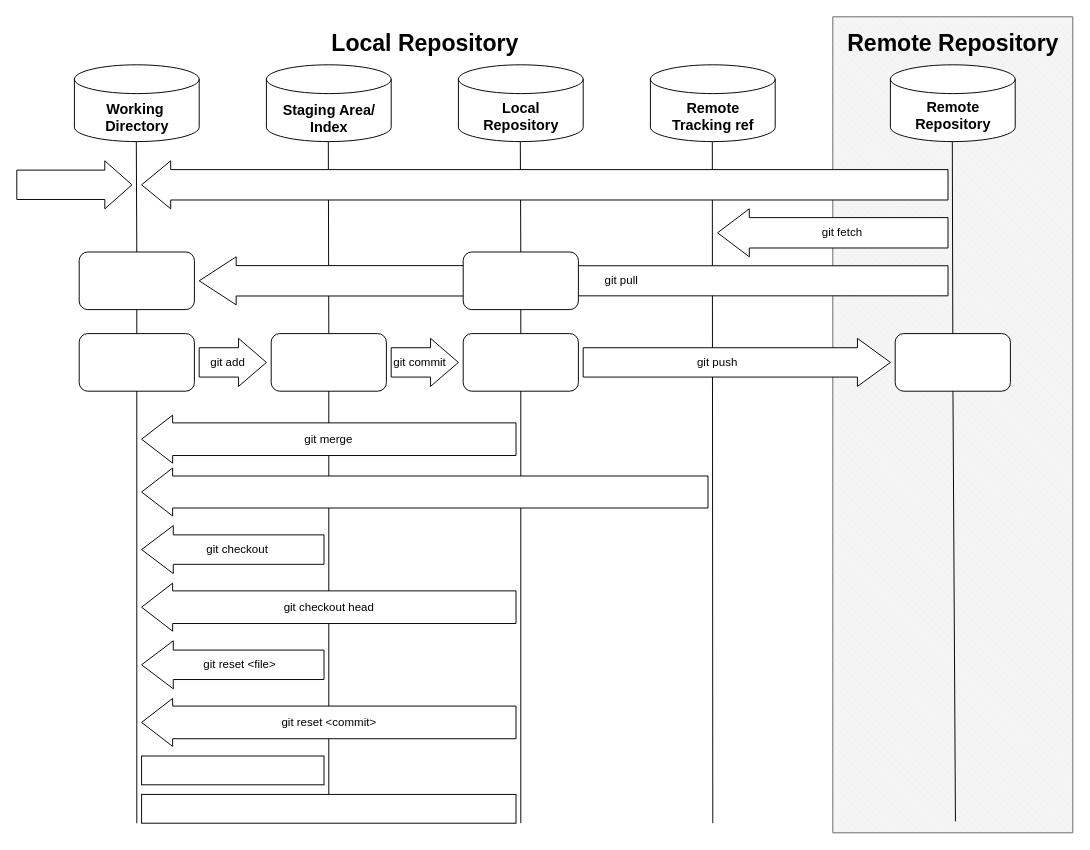
The diagram is 1090 pixels wide and 850 high, and some of its shapes have lost their labels. Here are the shapes that lost their labels. From the top down, the box of each, then its label:
(16, 160, 132, 209): git init
(141, 160, 948, 209): git clone
(141, 467, 708, 516): git rebase
(141, 755, 324, 785): git diff
(141, 793, 516, 823): git diff head
